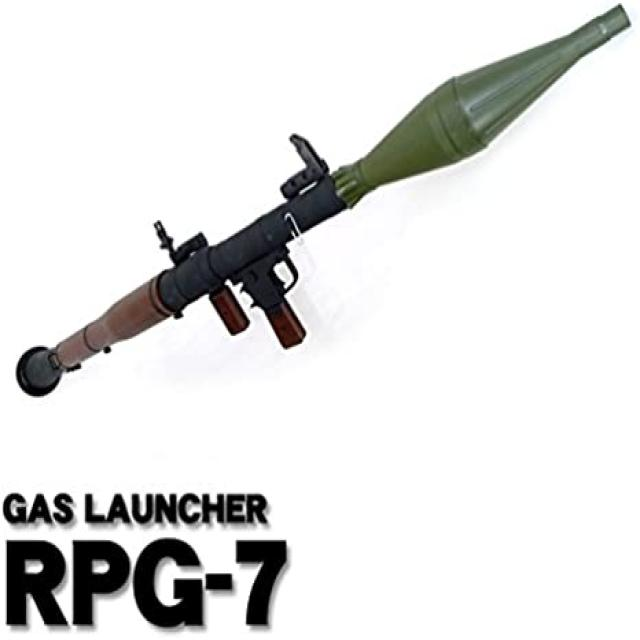bazooka: (13, 7, 640, 479)
